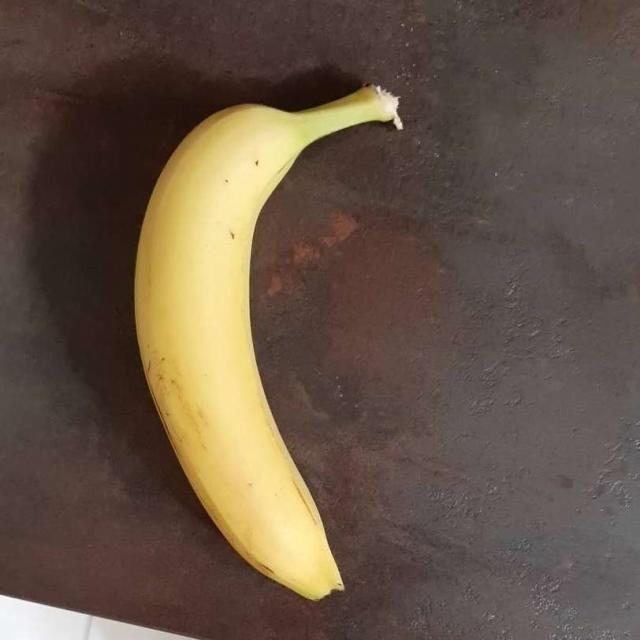banana: (137, 95, 379, 589)
